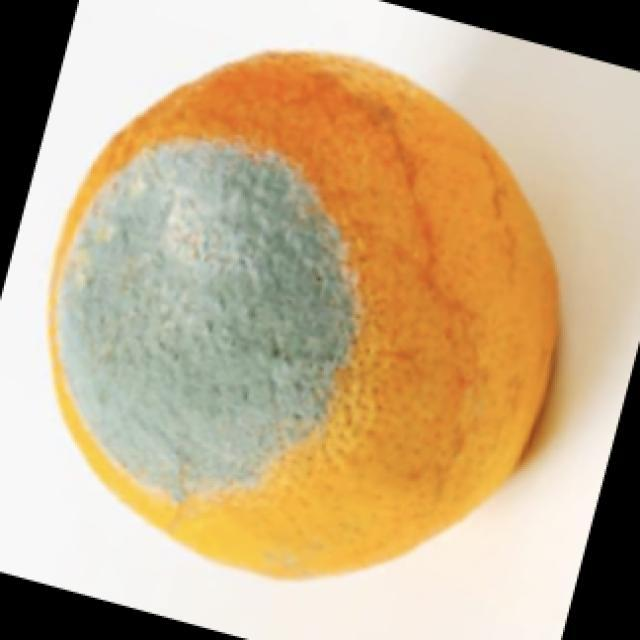sedikit-busuk: (50, 53, 556, 573)
